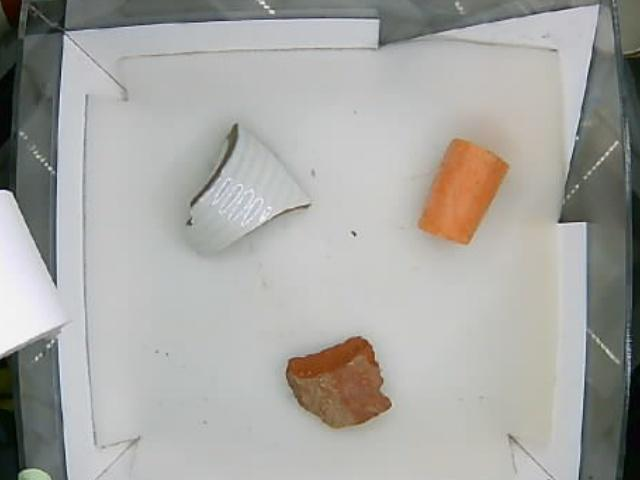Brisk: (283, 335, 394, 433)
Carrot: (418, 136, 511, 247)
China: (183, 123, 312, 257)
